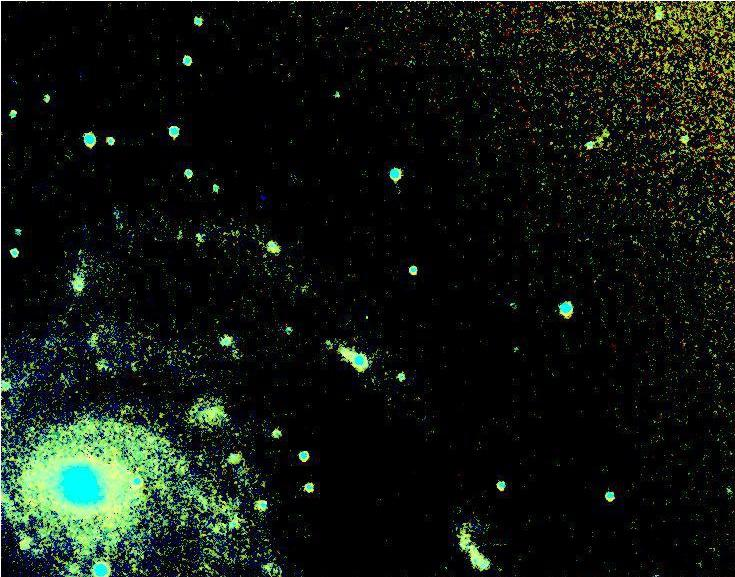star: (350, 303, 380, 333)
